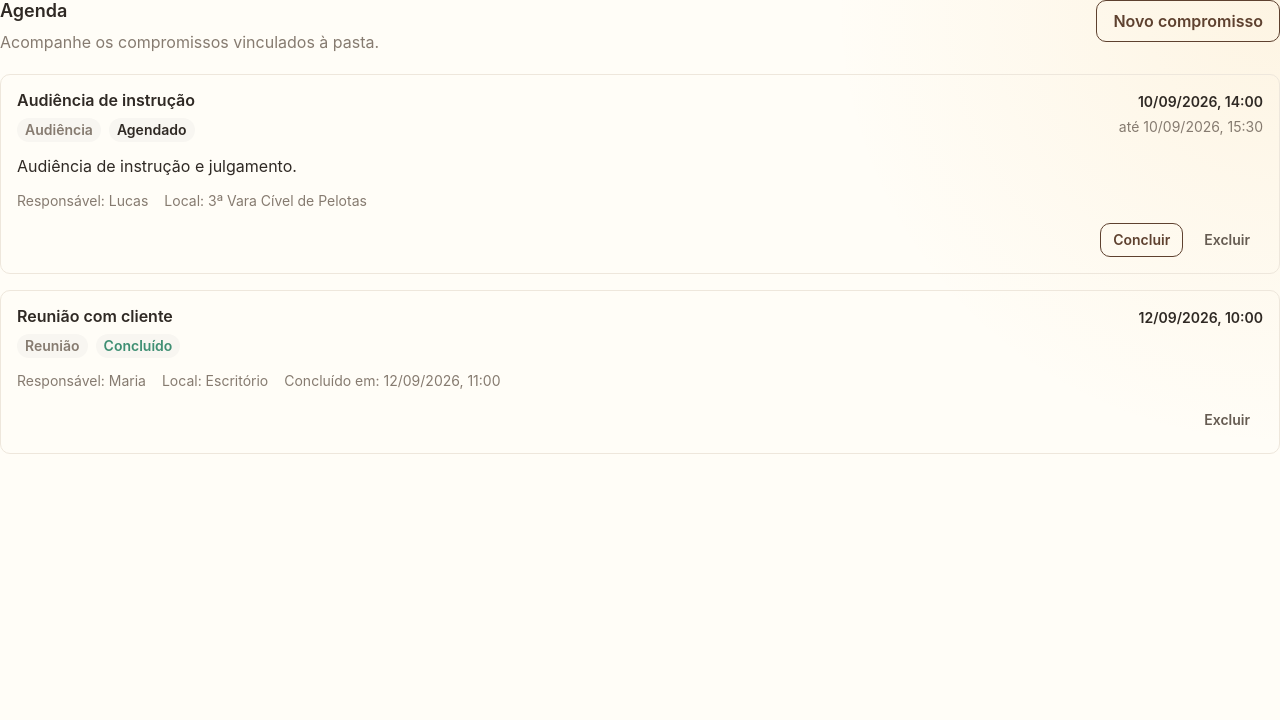
Scenario: FolderEvents › abre confirmação ao clicar em Excluir
Click the button "Excluir" below "até 10/09/2026, 15:30". click: (1227,240)
box: [1191, 223, 1263, 257]
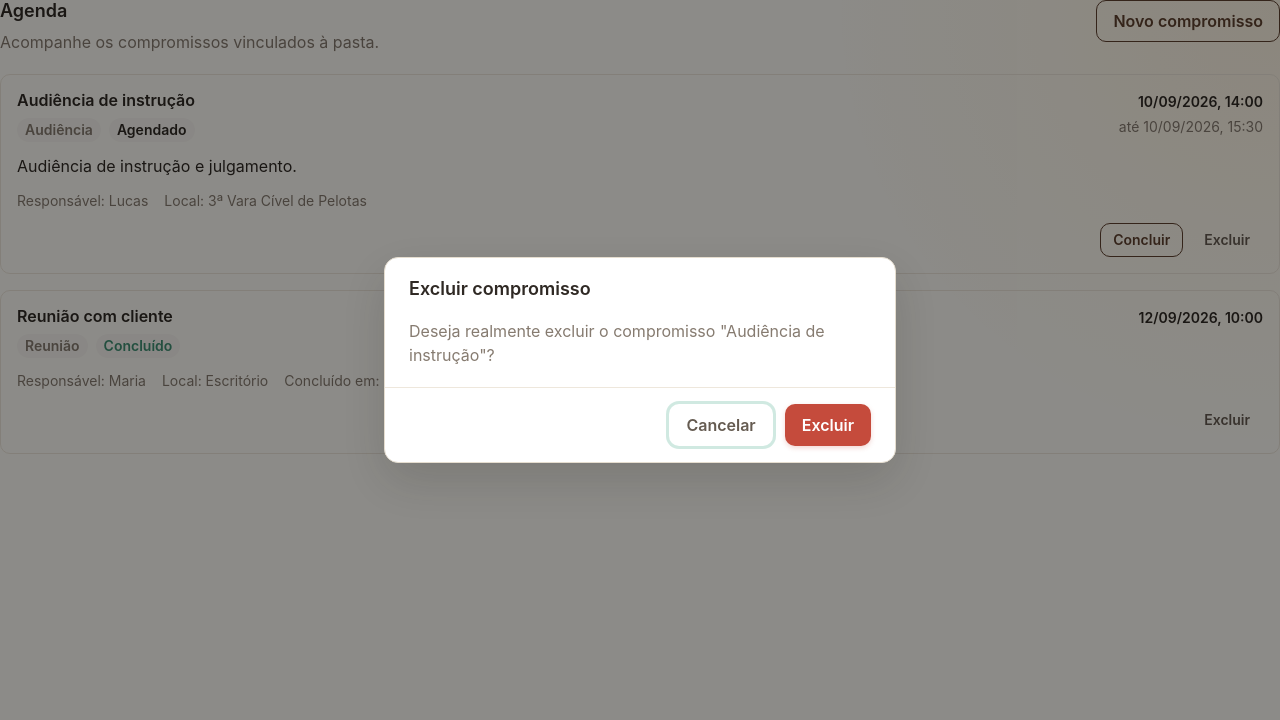
Expected: the text "Excluir compromisso" is shown, [409, 278, 591, 299]
Expected: the text "Deseja realmente excluir o compromisso \"Audiência de instrução\"?" is shown, [409, 319, 871, 367]
